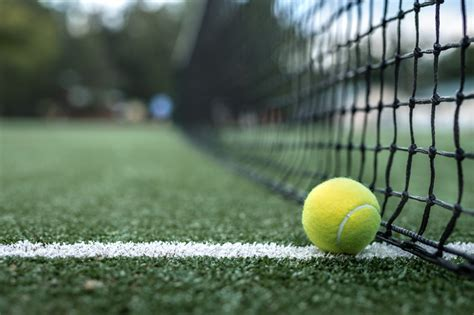tennis_ball: (301, 177, 382, 255)
